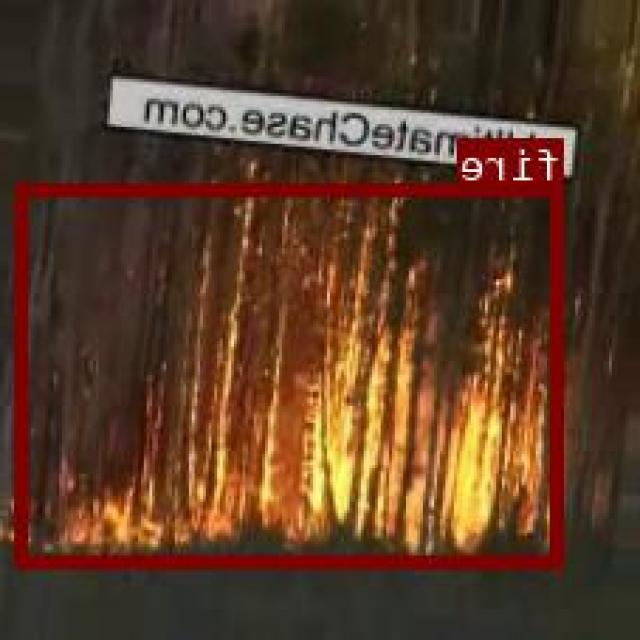fire: (19, 182, 565, 566)
